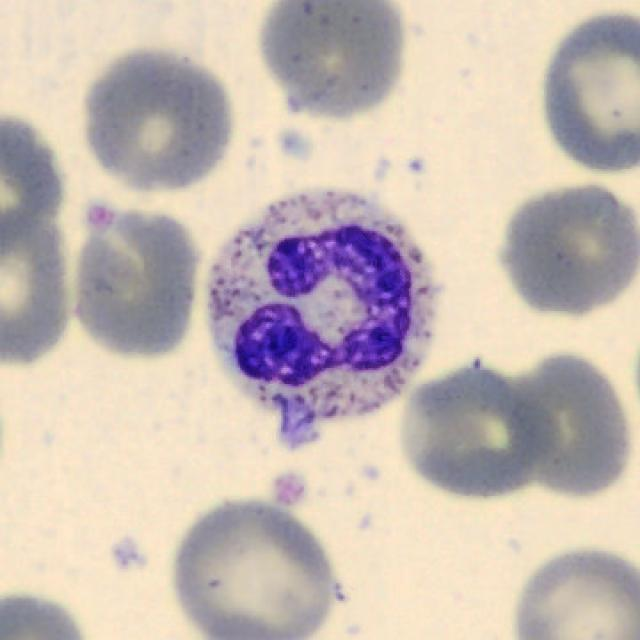Neutrofilo segmentado: (206, 188, 439, 420)
